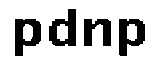d: (46, 4, 79, 48)
n: (80, 16, 113, 51)
p: (12, 13, 41, 60), (114, 14, 143, 60)
